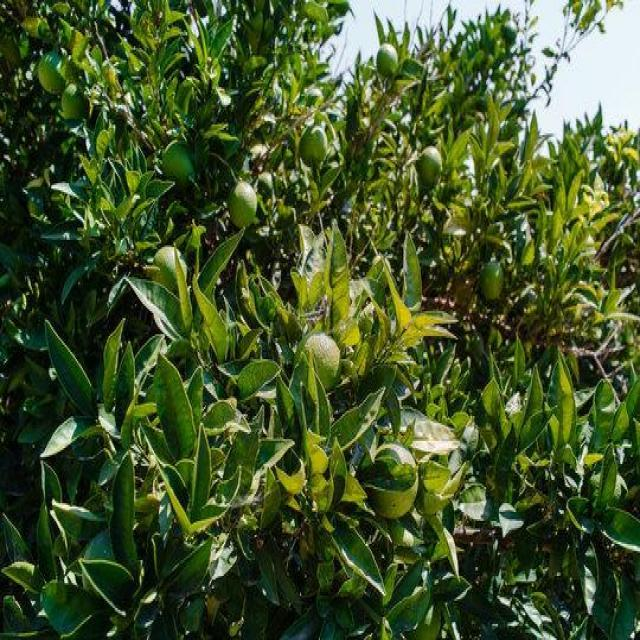Jeruk Belum Matang: (374, 442, 418, 516), (298, 330, 340, 390), (154, 246, 189, 294), (228, 183, 258, 228), (163, 142, 194, 185), (60, 84, 89, 124), (38, 52, 66, 92), (479, 263, 507, 302), (301, 128, 327, 166), (420, 146, 442, 185), (376, 46, 398, 75)
